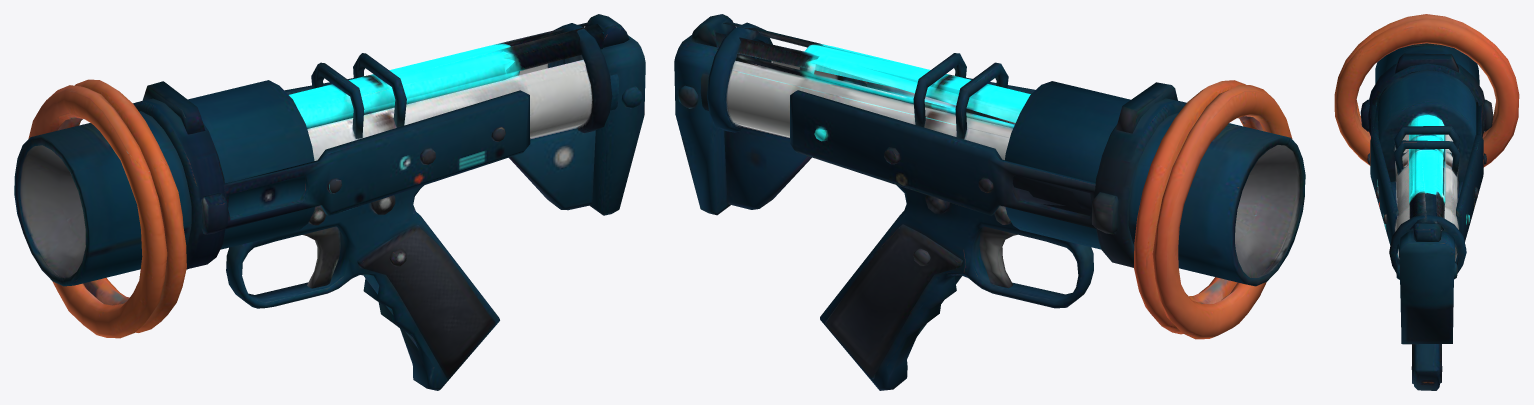
File: storm-coil-repeater.glb
The picture shows the model from 3 angles, left to right: view 1: azimuth 30°, elevation 25°; view 2: azimuth 150°, elevation 25°; view 3: azimuth 270°, elevation 25°; orthographic projection. The views are drawn at different scales.
Bounding box in the file's own units: 1 × 0.6289 × 0.4014.
1 material, 1 textured.
